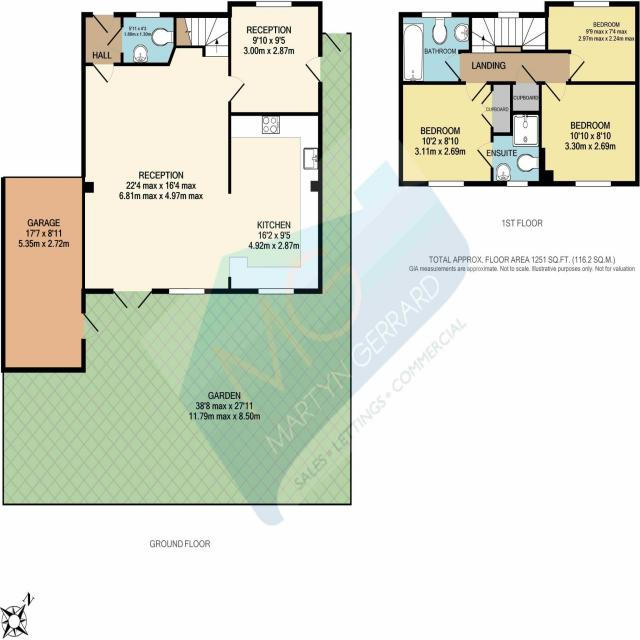DOOR: (81, 309, 100, 343), (228, 74, 247, 106), (90, 62, 116, 85), (568, 50, 587, 81), (543, 81, 567, 104), (514, 62, 538, 85), (443, 52, 462, 81), (304, 55, 323, 82), (465, 81, 488, 103), (476, 141, 494, 168)
ROOM: (82, 46, 323, 317), (398, 81, 514, 187), (228, 1, 323, 117), (538, 81, 640, 187), (544, 1, 639, 85)
WINDOW: (168, 287, 206, 296), (257, 287, 295, 296), (255, 0, 293, 9), (427, 180, 465, 189), (575, 179, 612, 188), (573, 0, 610, 9), (420, 10, 452, 20), (505, 179, 529, 189), (135, 11, 161, 19)
